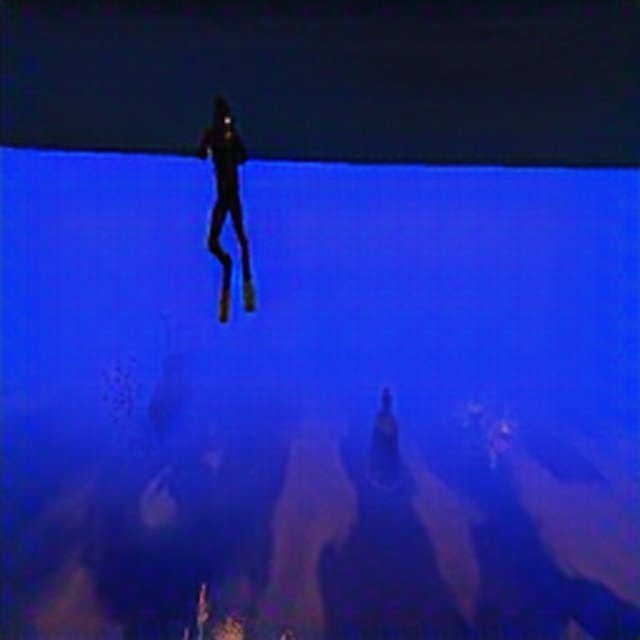diver: (196, 92, 255, 322)
